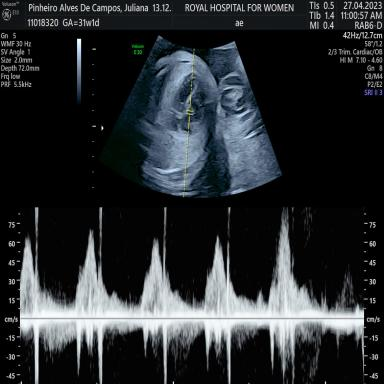Ultrasound-Waves: (24, 204, 361, 384)
